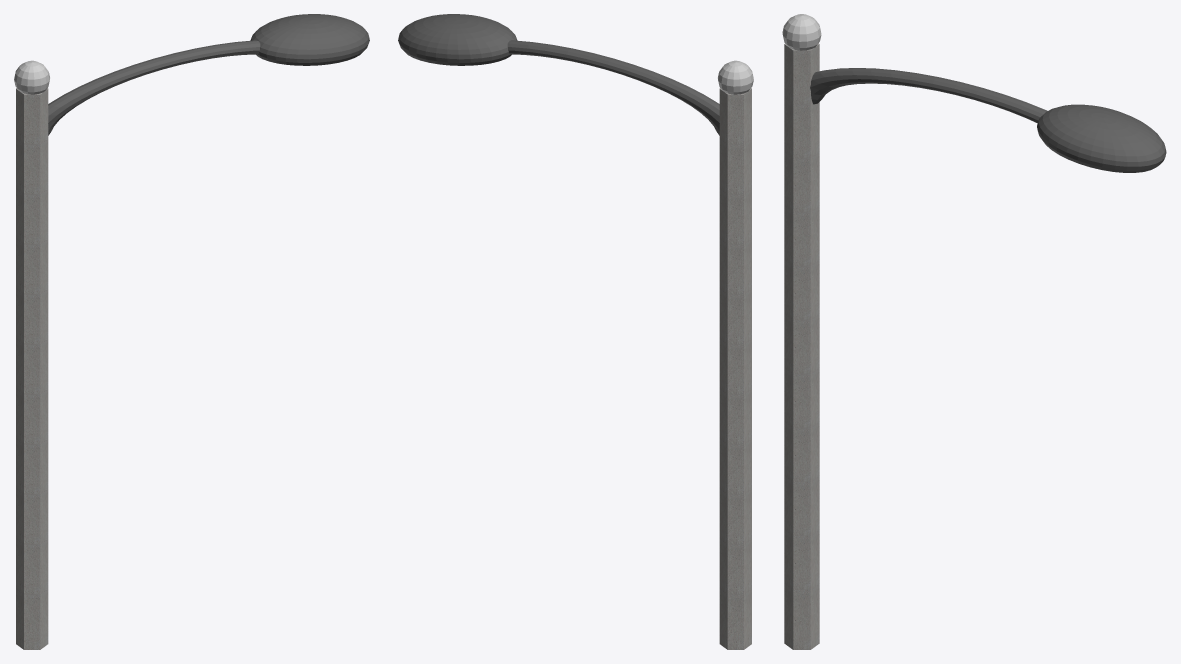
Rendered from Lamp.obj.
3 renders of one model, left to right at view 1: azimuth 30°, elevation 25°; view 2: azimuth 150°, elevation 25°; view 3: azimuth 330°, elevation 25°, orthographic. The views are drawn at different scales.
Visible parts, largest first — view 1: Pole_Cylinder, LightPart_Sphere, Torus.001, Sphere_Sphere.001; view 2: Pole_Cylinder, LightPart_Sphere, Torus.001, Sphere_Sphere.001; view 3: Pole_Cylinder, LightPart_Sphere, Torus.001, Sphere_Sphere.001.
Boxes of the visible parts, x1=… form: Pole_Cylinder: x1=16, y1=88, x2=48, y2=649; LightPart_Sphere: x1=250, y1=14, x2=369, y2=65; Torus.001: x1=48, y1=40, x2=260, y2=135; Sphere_Sphere.001: x1=14, y1=60, x2=49, y2=94; Pole_Cylinder: x1=719, y1=88, x2=751, y2=649; LightPart_Sphere: x1=398, y1=14, x2=517, y2=65; Torus.001: x1=507, y1=40, x2=719, y2=135; Sphere_Sphere.001: x1=718, y1=60, x2=753, y2=94; Pole_Cylinder: x1=784, y1=43, x2=819, y2=649; LightPart_Sphere: x1=1037, y1=104, x2=1166, y2=172; Torus.001: x1=810, y1=68, x2=1047, y2=123; Sphere_Sphere.001: x1=782, y1=14, x2=821, y2=50.
Size of the model in its own units: 9.13 by 14.53 by 2.
